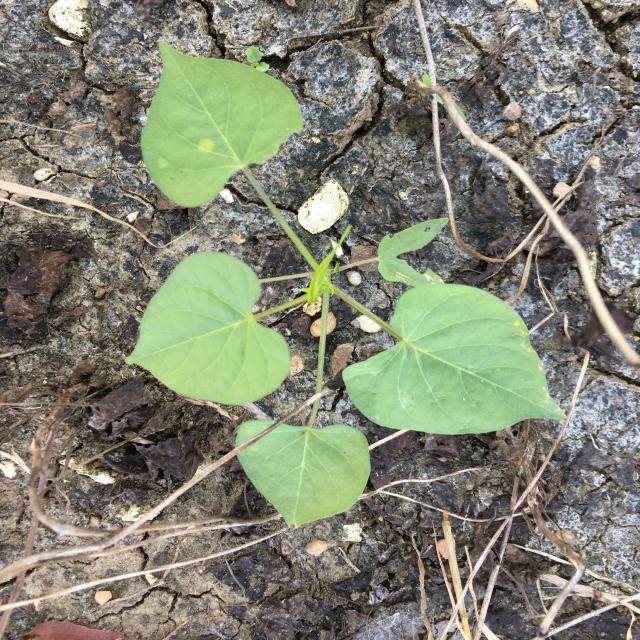MorningGlory: (124, 41, 567, 528)
